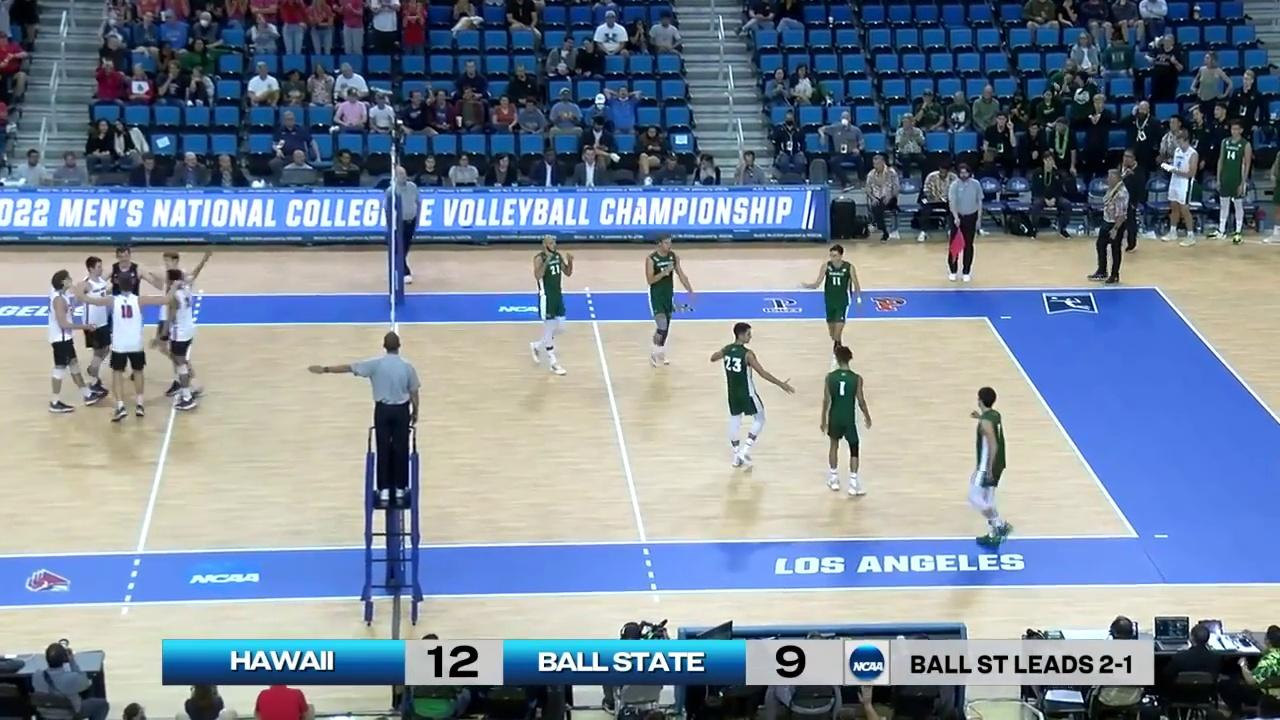player: (711, 324, 779, 470), (819, 348, 872, 497), (965, 387, 1014, 546), (162, 271, 208, 413), (107, 272, 150, 423), (526, 237, 571, 378), (76, 258, 117, 404), (106, 249, 148, 384), (154, 251, 193, 394), (813, 246, 859, 365), (48, 272, 86, 413), (644, 236, 683, 368)
refree: (358, 334, 426, 506), (946, 166, 985, 281), (386, 166, 424, 284)
